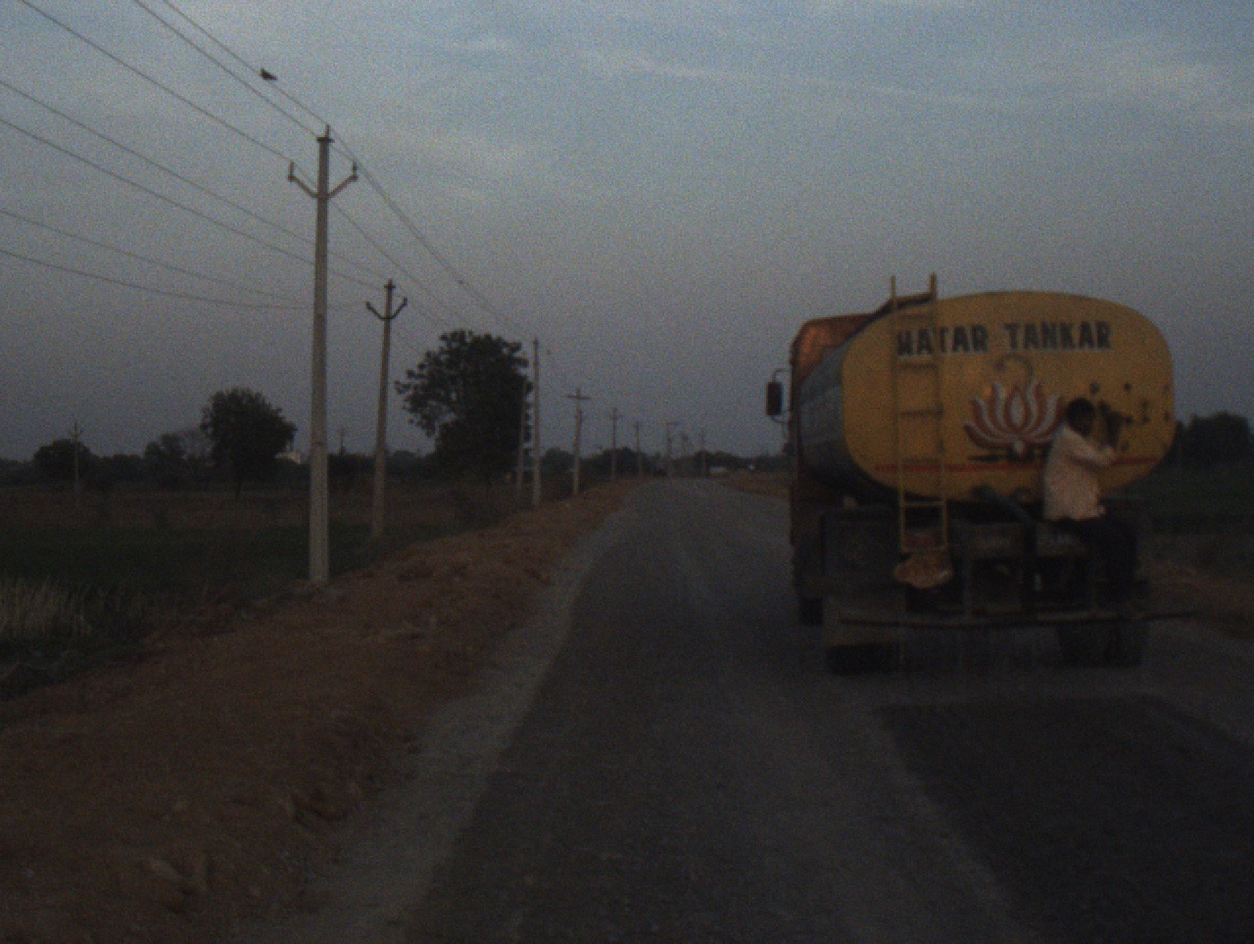rider: (1044, 381, 1144, 600)
truck: (762, 262, 1182, 684)
